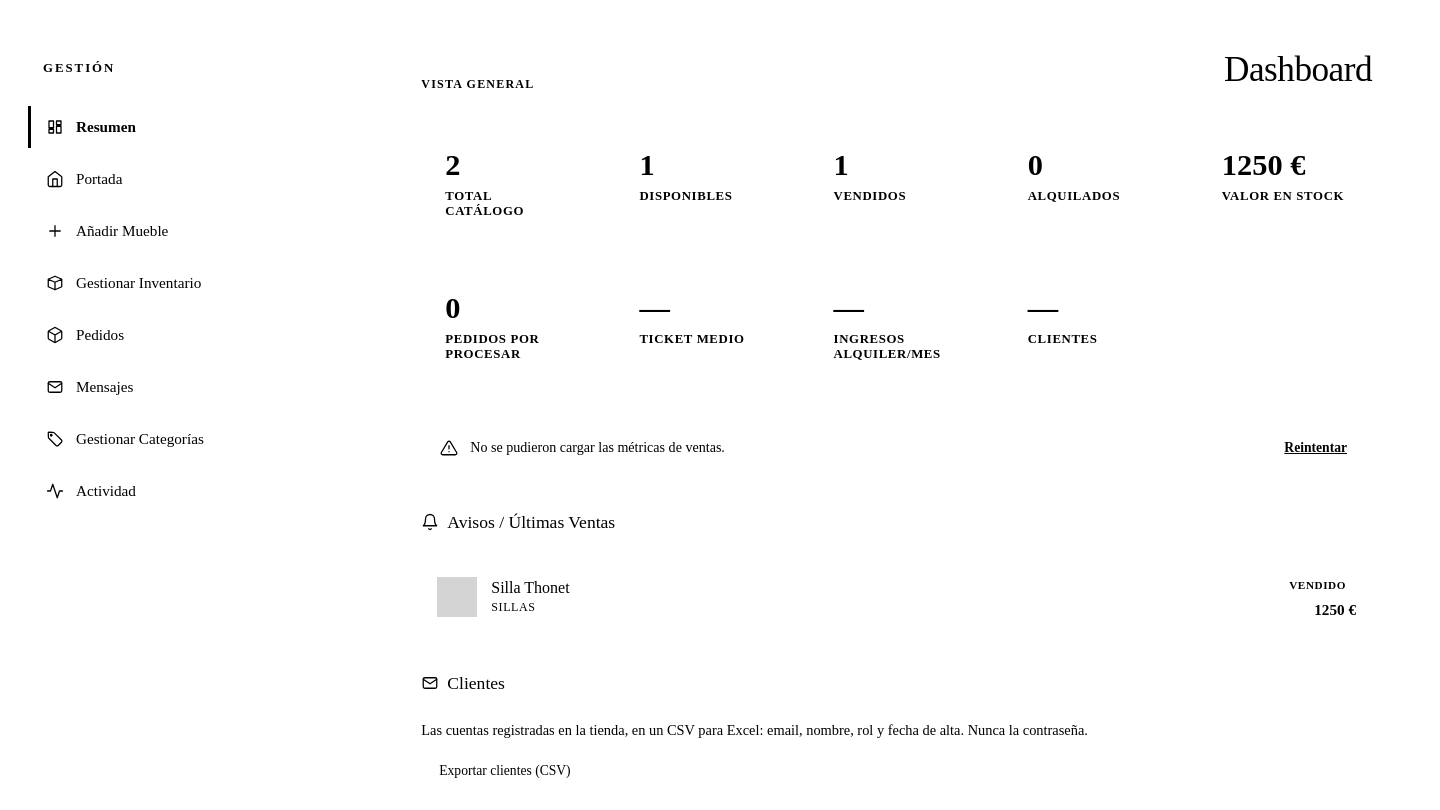
it: Inventario — duplicar pieza › al confirmar, el servidor crea la copia, avisa con su referencia nueva, recarga y abre su editor
The image size is (1440, 810).
Click the button "Gestionar Inventario" at coordinates (185, 283), box [28,262,341,304]
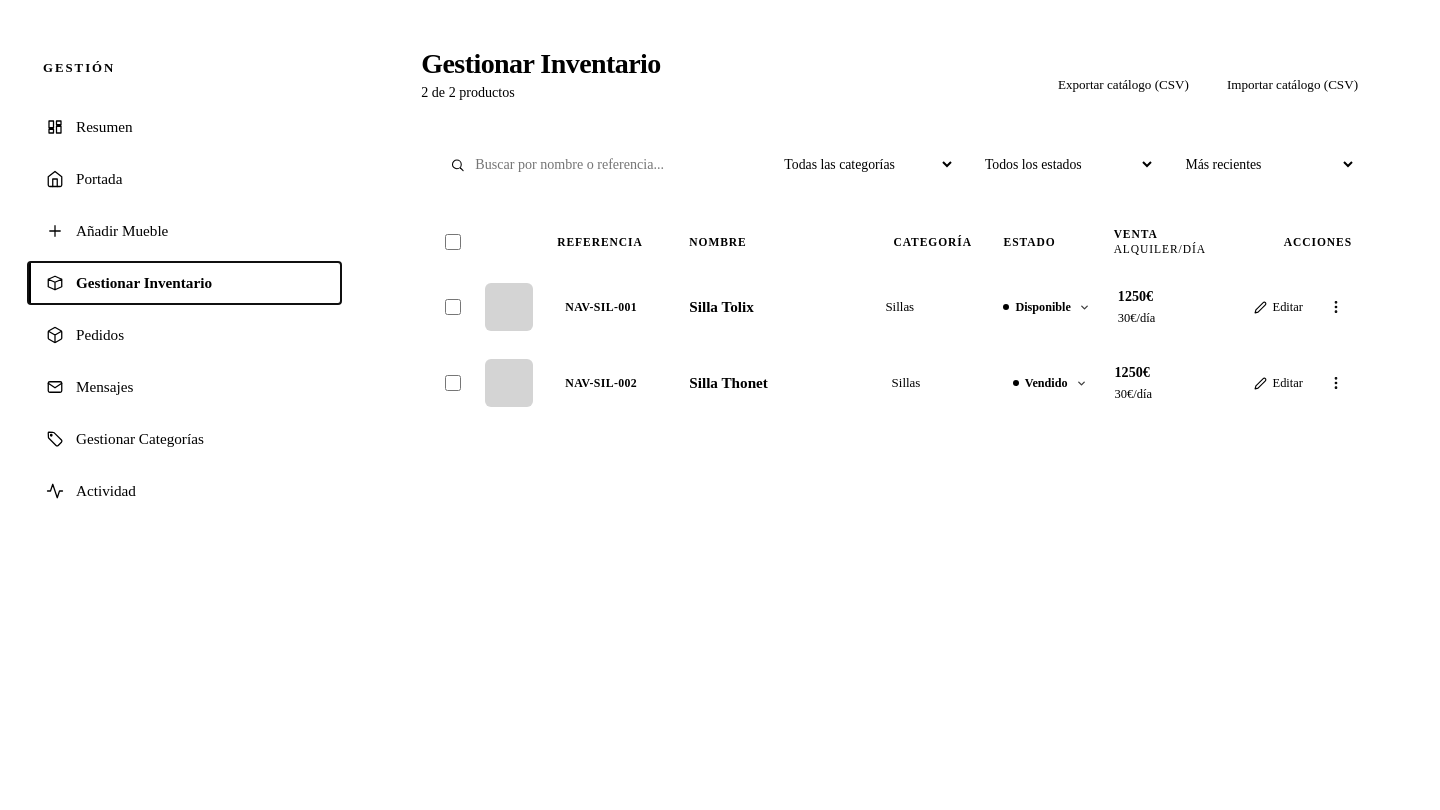
Click the button named "Más acciones de Silla Thonet" at coordinates (1336, 383), box [1320,369,1352,397]
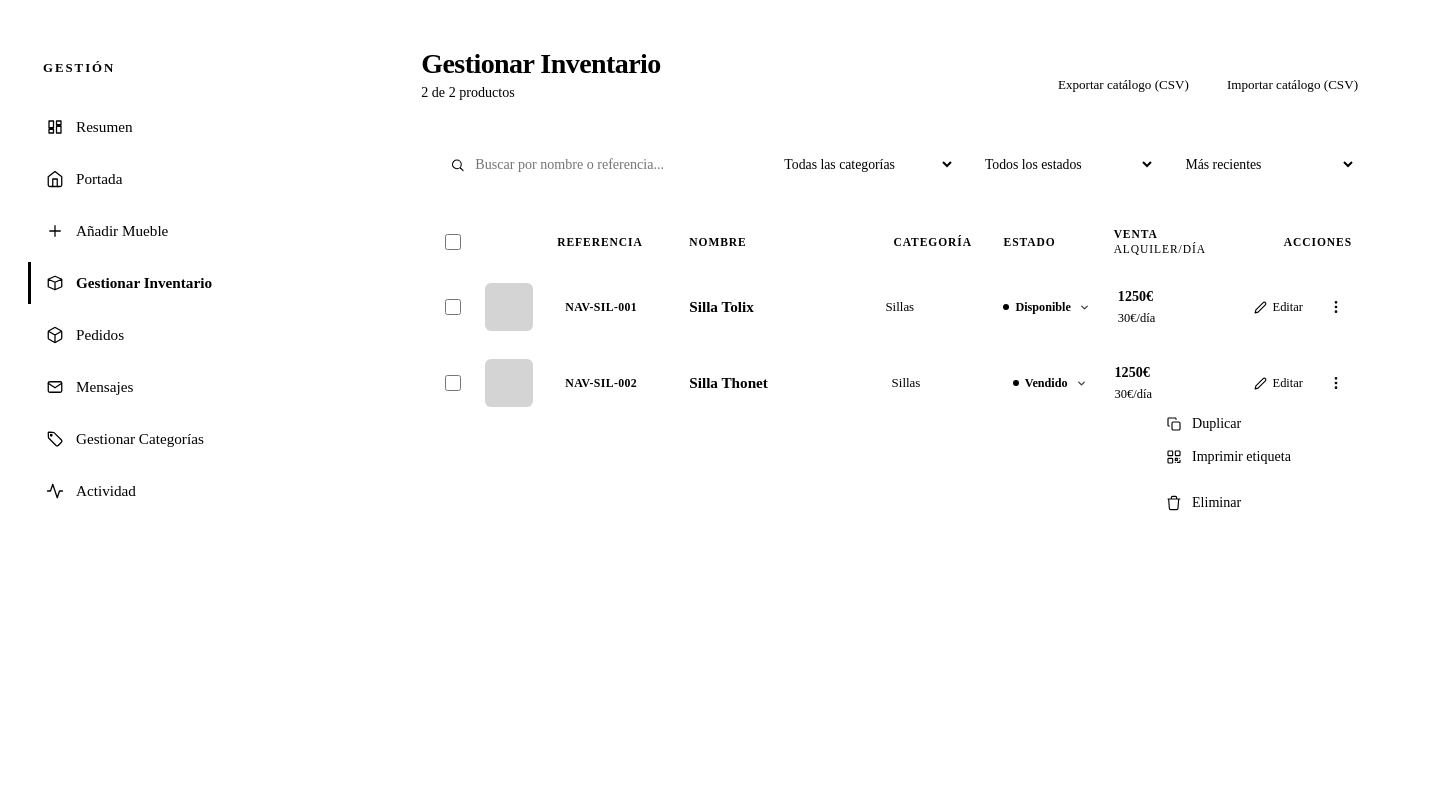
Click the menu item "Duplicar" at coordinates (1251, 424), box [1156,407,1346,440]
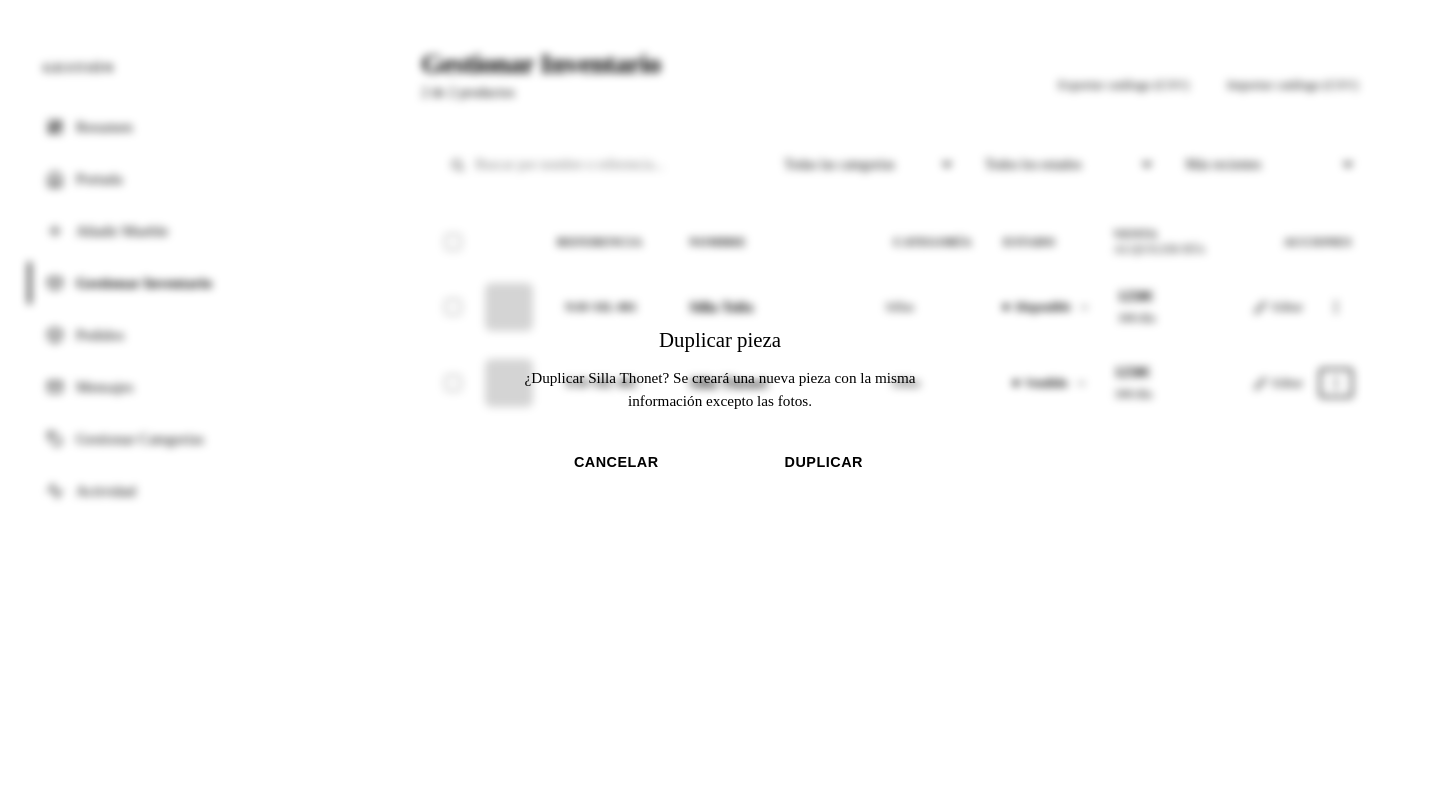
Click the button "Duplicar" at coordinates (824, 462), box [728,442,920,482]
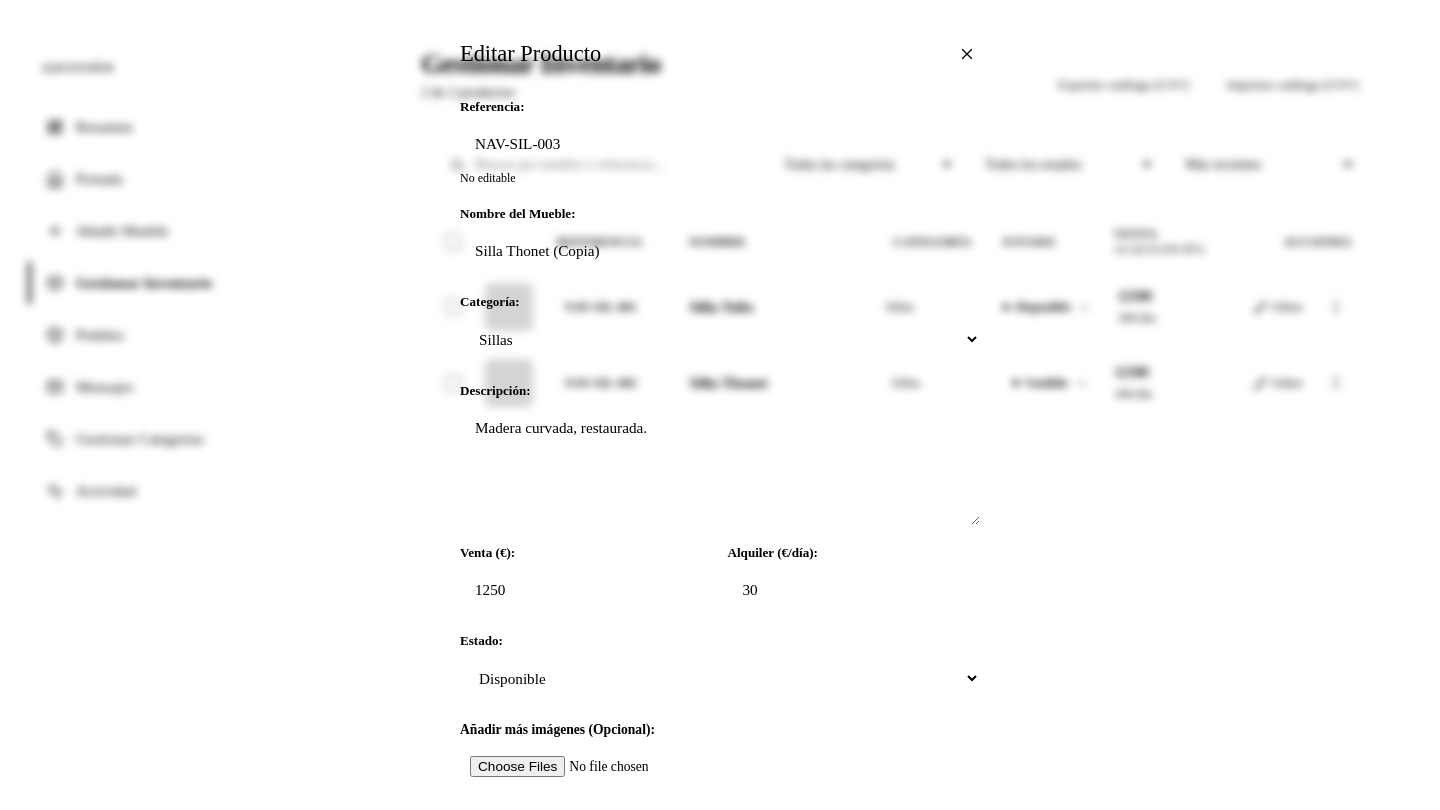
Expected: the field showing "Silla Thonet (Copia)" below "Nombre del Mueble:" is shown, [460,228,980,274]
Expected: the field showing "NAV-SIL-003" below "Referencia:" is shown, [460,120,980,166]
Expected: the text box showing "Madera curvada, restaurada." is shown, [460,404,980,524]
